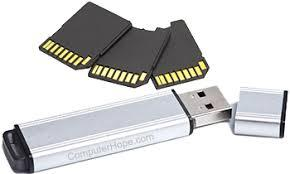Flash-drive: (14, 78, 242, 171)
